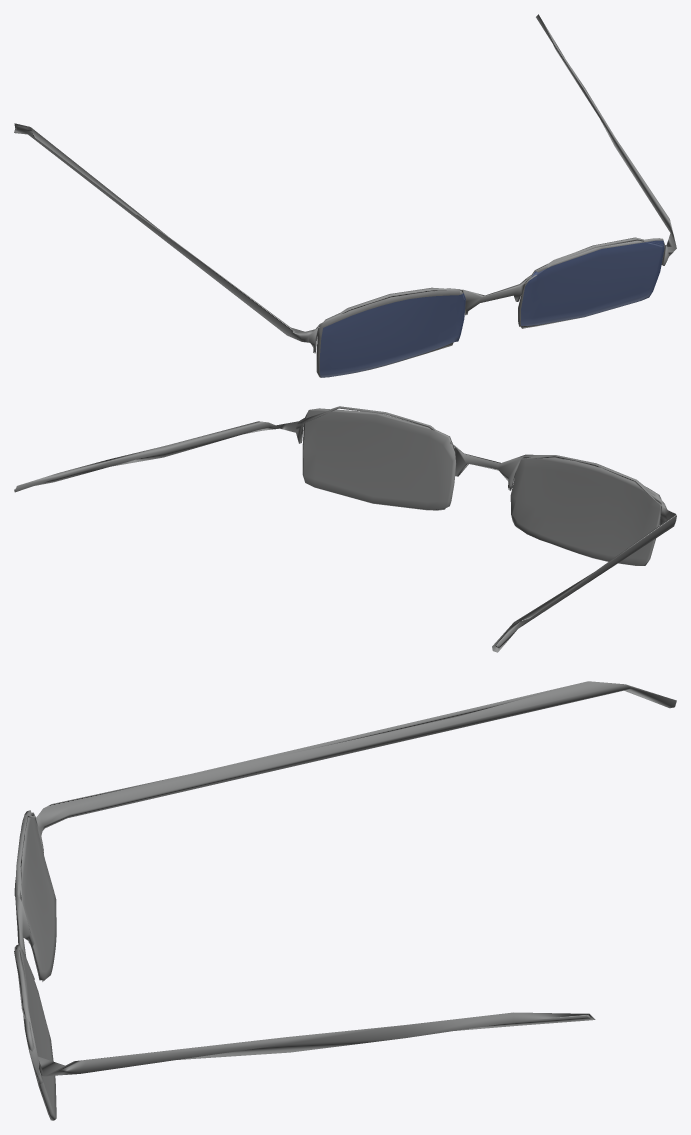
The model's file is glass.fbx.
The picture shows the model from 3 angles, top to bottom: view 1: azimuth 30°, elevation 25°; view 2: azimuth 150°, elevation 25°; view 3: azimuth 270°, elevation 25°; orthographic projection. The views are drawn at different scales.
Visible parts, largest first — view 1: glass2; view 2: glass2; view 3: glass2.
Boxes of the visible parts, x1=… form: glass2: x1=14, y1=14, x2=676, y2=377; glass2: x1=14, y1=406, x2=676, y2=652; glass2: x1=14, y1=681, x2=676, y2=1120.
Bounding box in the file's own units: 15.66 × 3.7 × 13.
